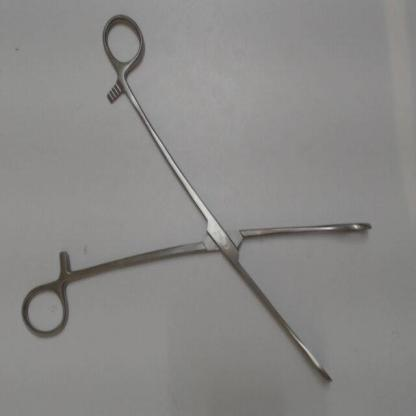Sponge Forceps: (14, 6, 381, 392)
